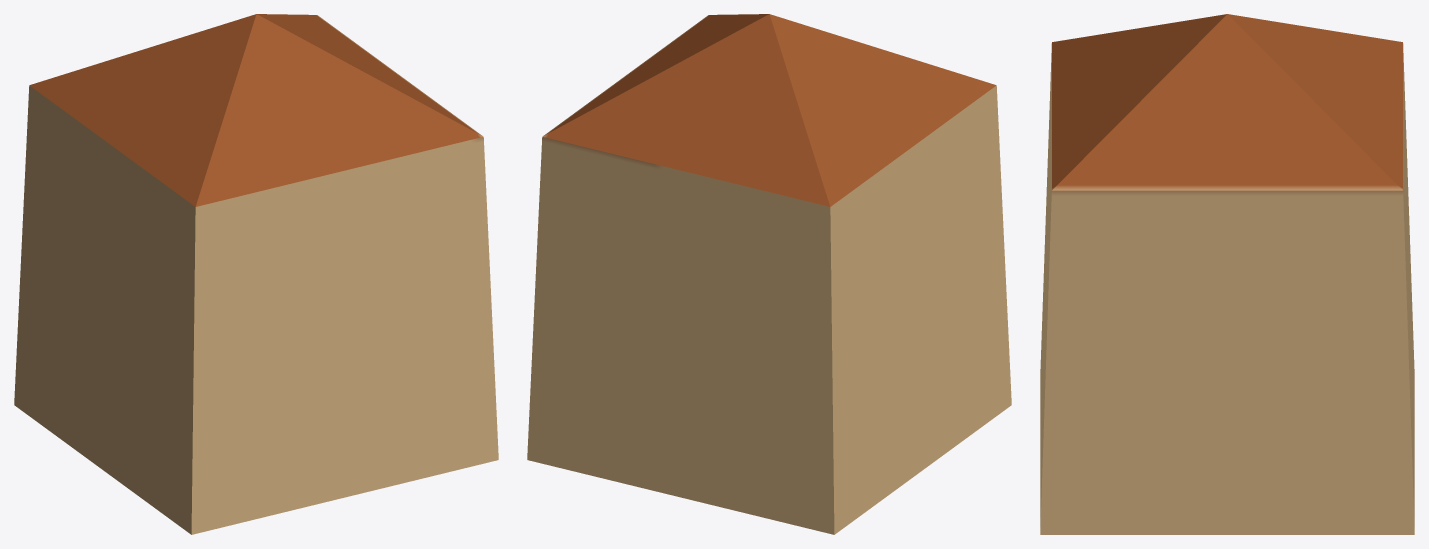
The model's file is house.glb.
The picture shows the model from 3 angles, left to right: view 1: azimuth 30°, elevation 25°; view 2: azimuth 150°, elevation 25°; view 3: azimuth 270°, elevation 25°; orthographic projection. The views are drawn at different scales.
Parts seen in each view (by area): view 1: Cube; view 2: Cube; view 3: Cube.
Boxes of the visible parts, bbox=[...] form: Cube: bbox=[14, 14, 498, 534]; Cube: bbox=[527, 14, 1011, 534]; Cube: bbox=[1040, 14, 1414, 534].
Bounding box in the file's own units: 2 × 2.6 × 2.
1 material, 1 textured.
